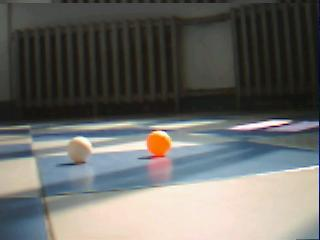oball: (146, 131, 172, 158)
